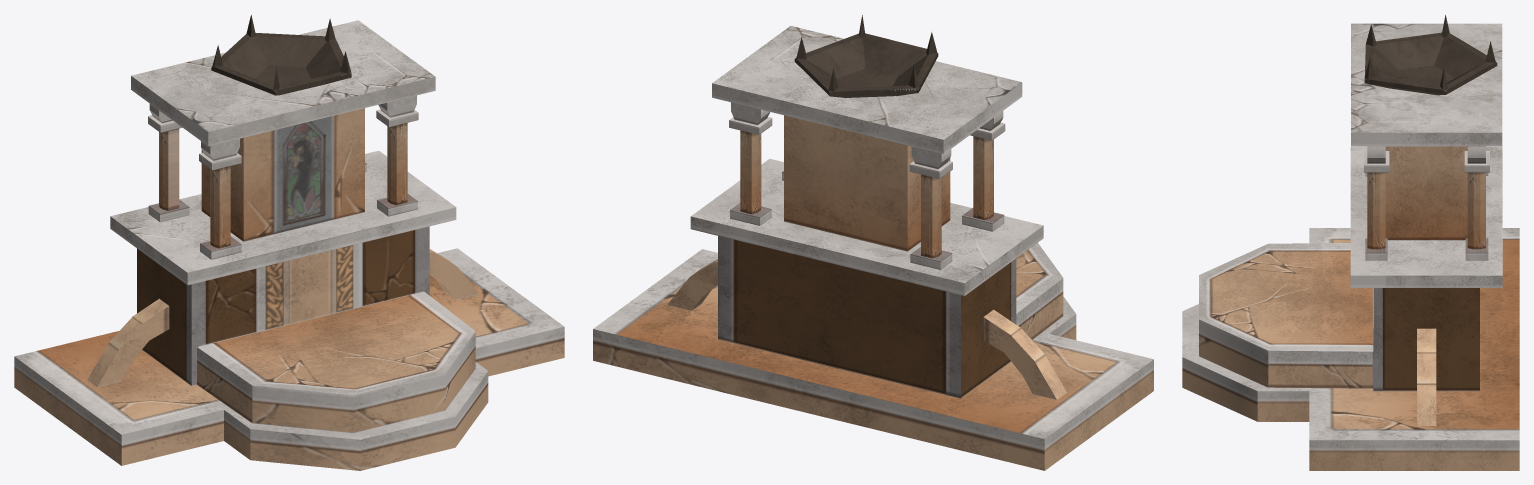
Rendered from altar_01.FBX.
The picture shows the model from 3 angles, left to right: view 1: azimuth 30°, elevation 25°; view 2: azimuth 150°, elevation 25°; view 3: azimuth 270°, elevation 25°; orthographic projection. The views are drawn at different scales.
Parts seen in each view (by area): view 1: Cylinder002; view 2: Cylinder002; view 3: Cylinder002.
Part boxes in pixels (x1,y1,x2,y2): Cylinder002: (14,15,564,470); Cylinder002: (593,15,1153,470); Cylinder002: (1182,15,1519,470).
Bounding box in the file's own units: 4.8 × 3.42 × 3.23.
